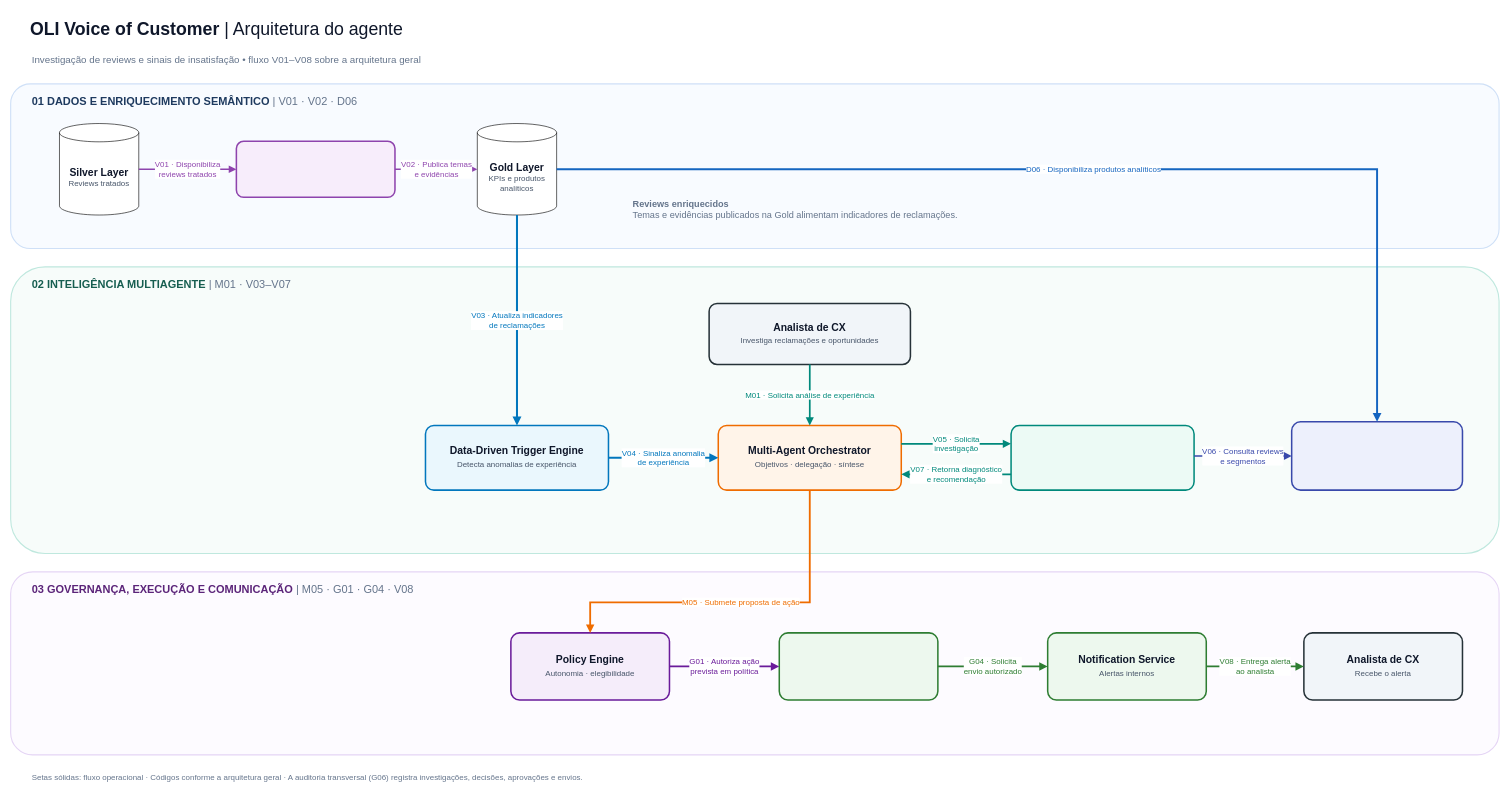
Image size: 1510x797. Some labels were removed from this diagram. The shapes that lost their labels are listed below. From the top down, each one's box as (x1, y1, x2, y2) in pixels, then its label:
(235, 140, 395, 198): NLP / LLM Enrichment Classificação de reviews
(1010, 424, 1195, 491): OLI Voice of Customer Reviews e sinais de insatisfação
(1291, 421, 1463, 491): Agent Tool Layer Consultas Gold · detalhe Silver
(778, 632, 938, 700): Action Gateway Execução de ações autorizadas
